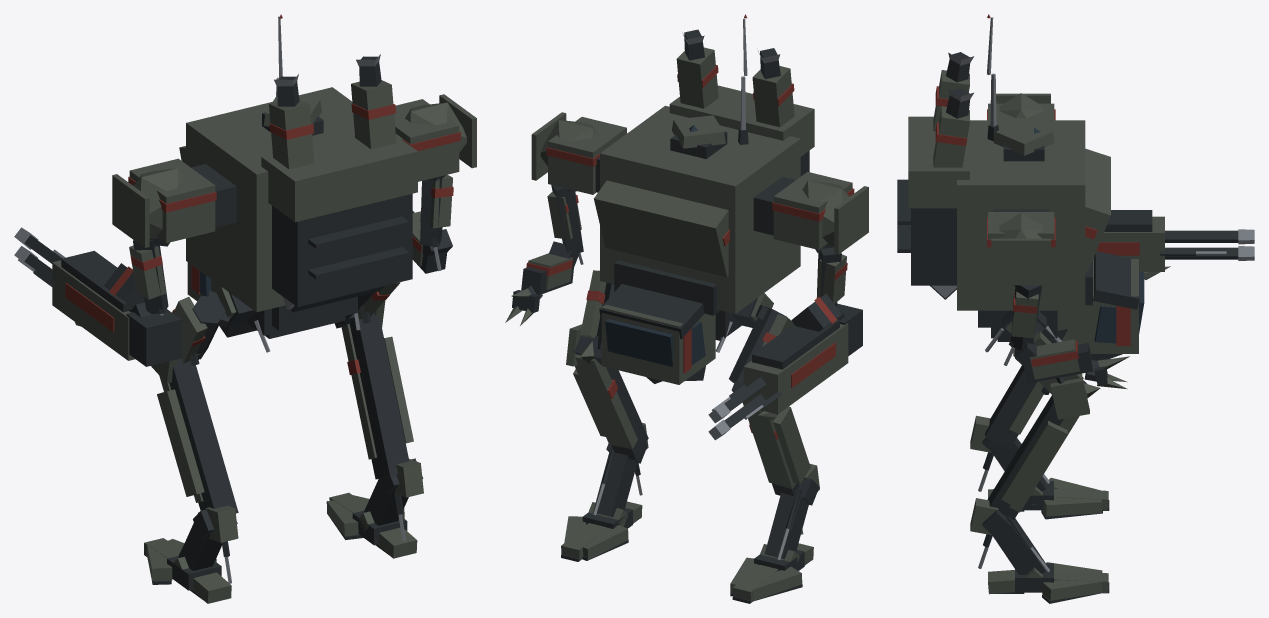
The model's file is gyro_mech.glb.
The picture shows the model from 3 angles, left to right: view 1: azimuth 30°, elevation 25°; view 2: azimuth 150°, elevation 25°; view 3: azimuth 270°, elevation 25°; orthographic projection. The views are drawn at different scales.
Parts seen in each view (by area): view 1: mech_walker_merged; view 2: mech_walker_merged; view 3: mech_walker_merged.
Part boxes in pixels (<box>): mech_walker_merged: <box>14,14,476,603</box>; mech_walker_merged: <box>505,14,868,603</box>; mech_walker_merged: <box>897,14,1254,603</box>.
Size of the model in its own units: 3.4 by 5.6 by 3.49.
